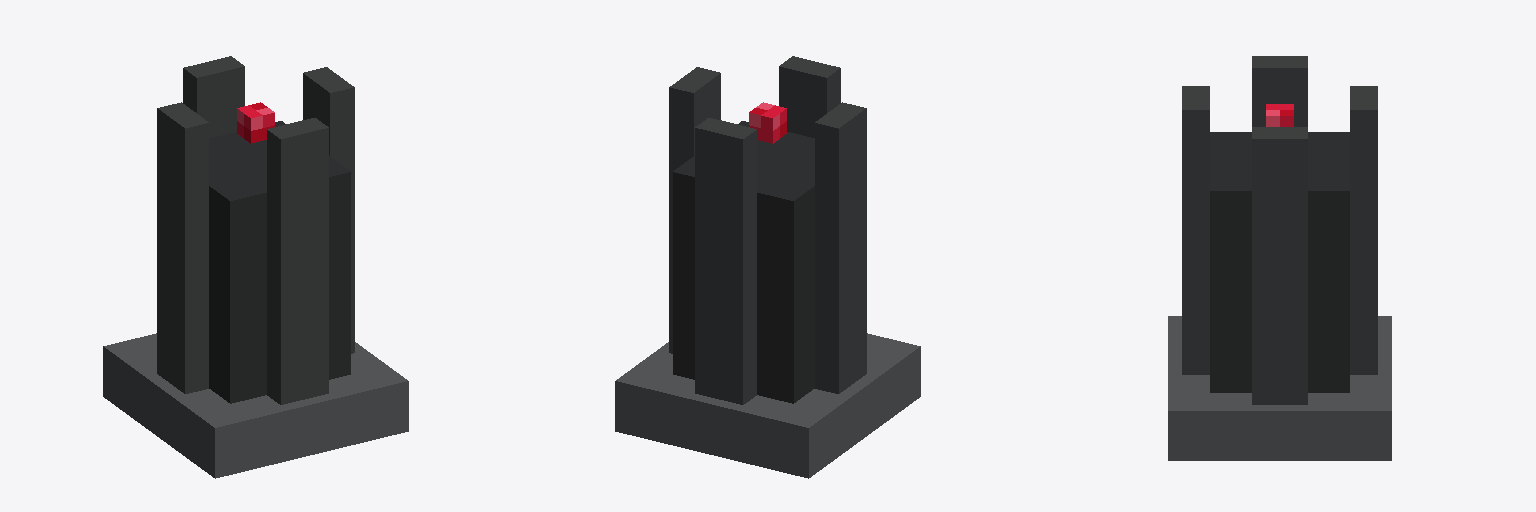
3 views of the same model, side by side, from view 1: azimuth 30°, elevation 25°; view 2: azimuth 150°, elevation 25°; view 3: azimuth 270°, elevation 25° (orthographic).
Parts seen in each view (by area): view 1: cube; view 2: cube; view 3: cube.
Part boxes in pixels (x1,y1,x2,y2): cube: (103, 56, 408, 478); cube: (615, 56, 920, 478); cube: (1168, 56, 1391, 460).
Bounding box in the file's own units: 1 × 1.56 × 1.
Materials: 1 (1 with a texture image).